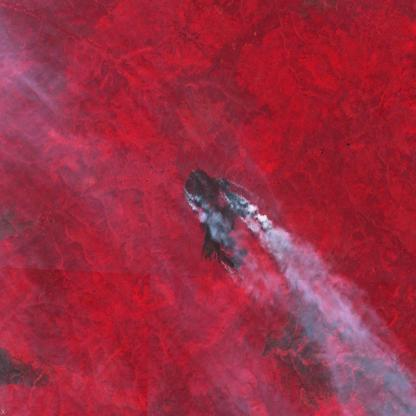fire: (182, 156, 262, 274)
